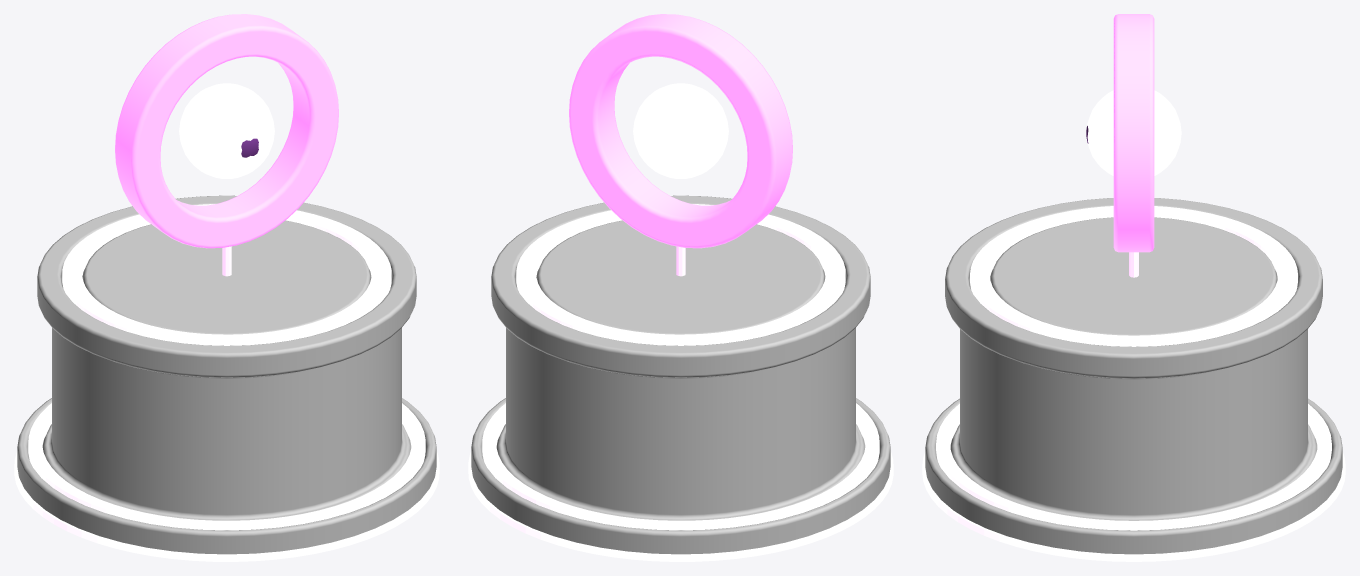
File: Lobby_PED_Orb.fbx
3 views of the same model, side by side, from view 1: azimuth 30°, elevation 25°; view 2: azimuth 150°, elevation 25°; view 3: azimuth 270°, elevation 25° (orthographic).
Visible parts, largest first — view 1: Lobby_PED_Orb__PedestalMarble, Lobby_PED_Orb__Glyph_OrbRing, Lobby_PED_Orb__PedNeon_Orb, Lobby_PED_Orb__Glyph_OrbEye; view 2: Lobby_PED_Orb__PedestalMarble, Lobby_PED_Orb__Glyph_OrbRing, Lobby_PED_Orb__PedNeon_Orb, Lobby_PED_Orb__Glyph_OrbEye; view 3: Lobby_PED_Orb__PedestalMarble, Lobby_PED_Orb__PedNeon_Orb, Lobby_PED_Orb__Glyph_OrbRing, Lobby_PED_Orb__Glyph_OrbEye.
Part boxes in pixels (x1,y1,x2,y2): Lobby_PED_Orb__PedestalMarble: (17, 195, 436, 554); Lobby_PED_Orb__Glyph_OrbRing: (115, 14, 338, 248); Lobby_PED_Orb__PedNeon_Orb: (14, 204, 439, 561); Lobby_PED_Orb__Glyph_OrbEye: (179, 83, 274, 178); Lobby_PED_Orb__PedestalMarble: (471, 195, 890, 554); Lobby_PED_Orb__Glyph_OrbRing: (569, 14, 792, 248); Lobby_PED_Orb__PedNeon_Orb: (468, 204, 893, 561); Lobby_PED_Orb__Glyph_OrbEye: (633, 83, 728, 178); Lobby_PED_Orb__PedestalMarble: (925, 198, 1342, 554); Lobby_PED_Orb__PedNeon_Orb: (922, 206, 1345, 561); Lobby_PED_Orb__Glyph_OrbRing: (1113, 14, 1154, 252); Lobby_PED_Orb__Glyph_OrbEye: (1087, 90, 1181, 175).
Size of the model in its own units: 4.26 by 4.98 by 4.26.
